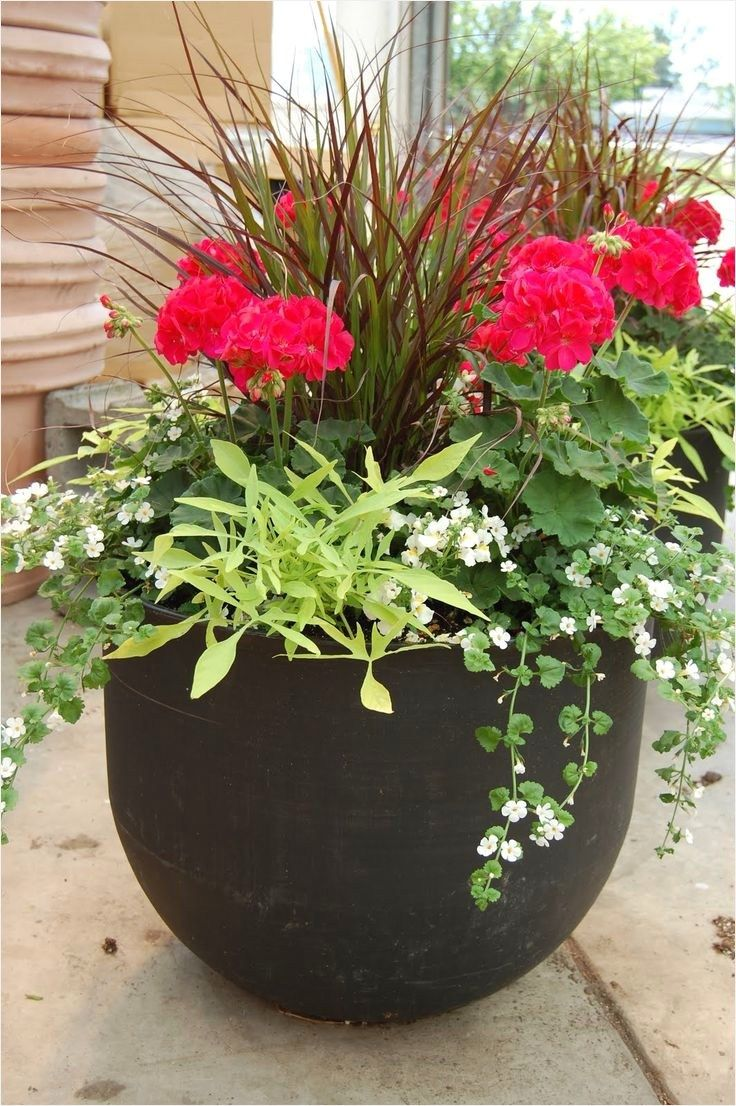tanaman: (63, 62, 696, 1014)
